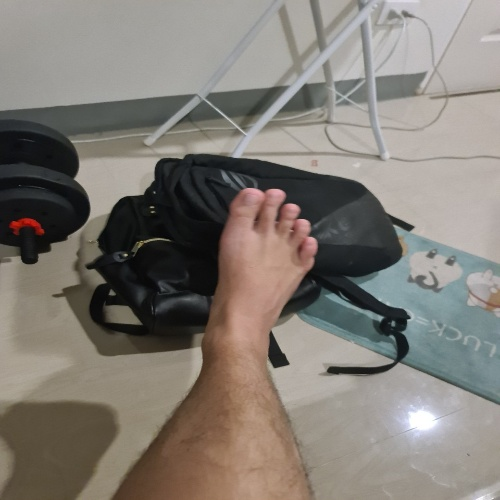3: (227, 186, 262, 236)
Top_Foot: (199, 189, 316, 366)
